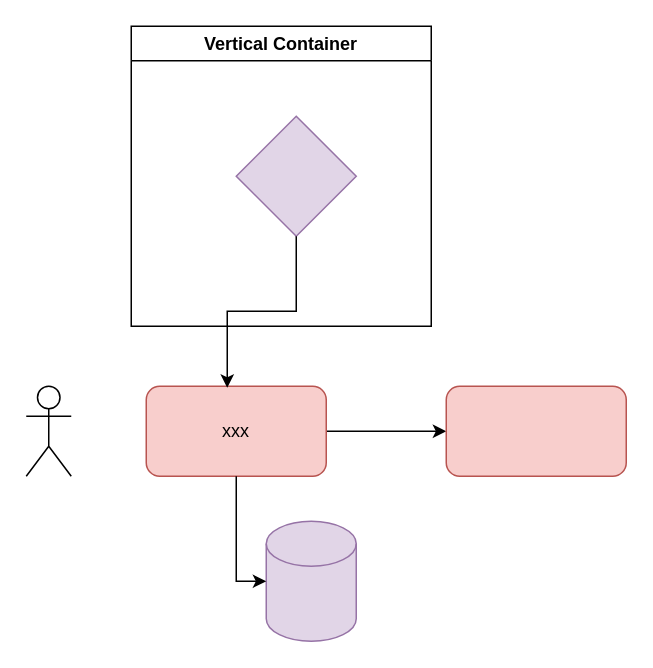
This 653x668 diagram has some shape labels left out. Each missing label, with the centre of its shape:
"Actor" goes at point (48, 430).
"asdads" goes at point (535, 430).
